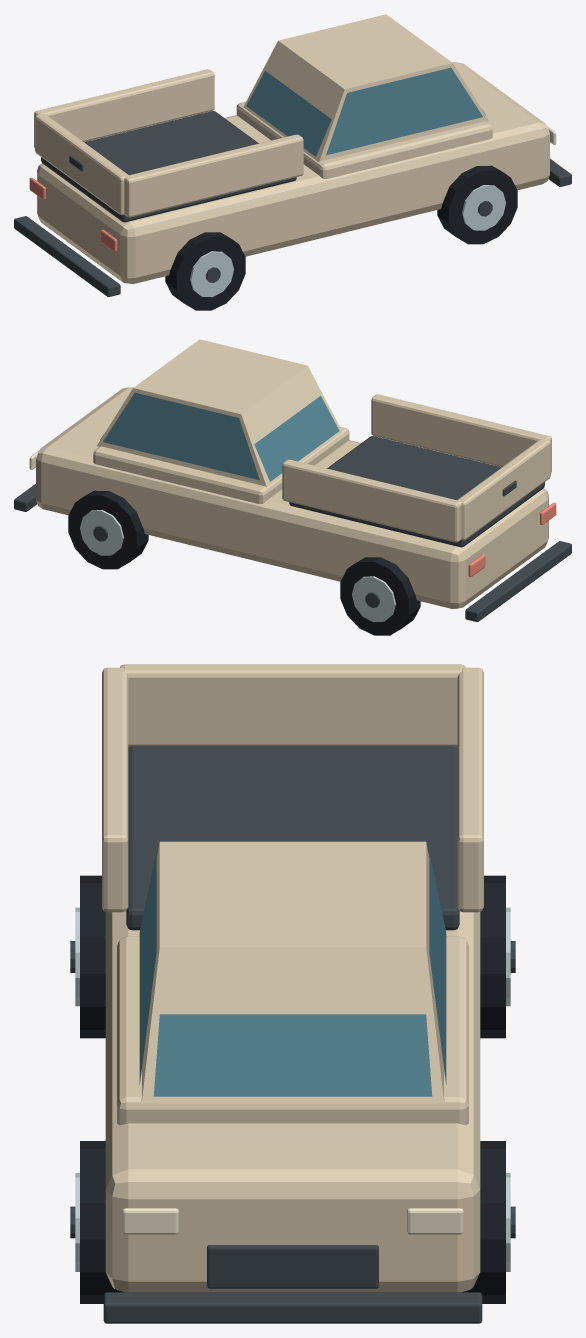
File: Pickup.fbx
The picture shows the model from 3 angles, top to bottom: view 1: azimuth 30°, elevation 25°; view 2: azimuth 150°, elevation 25°; view 3: azimuth 270°, elevation 25°; orthographic projection. The views are drawn at different scales.
Parts seen in each view (by area): view 1: Pickup; view 2: Pickup; view 3: Pickup.
Part boxes in pixels (x1=…): Pickup: x1=14, y1=14, x2=571, y2=310; Pickup: x1=14, y1=339, x2=571, y2=635; Pickup: x1=70, y1=664, x2=515, y2=1323.
Size of the model in its own units: 567 by 197 by 235.
